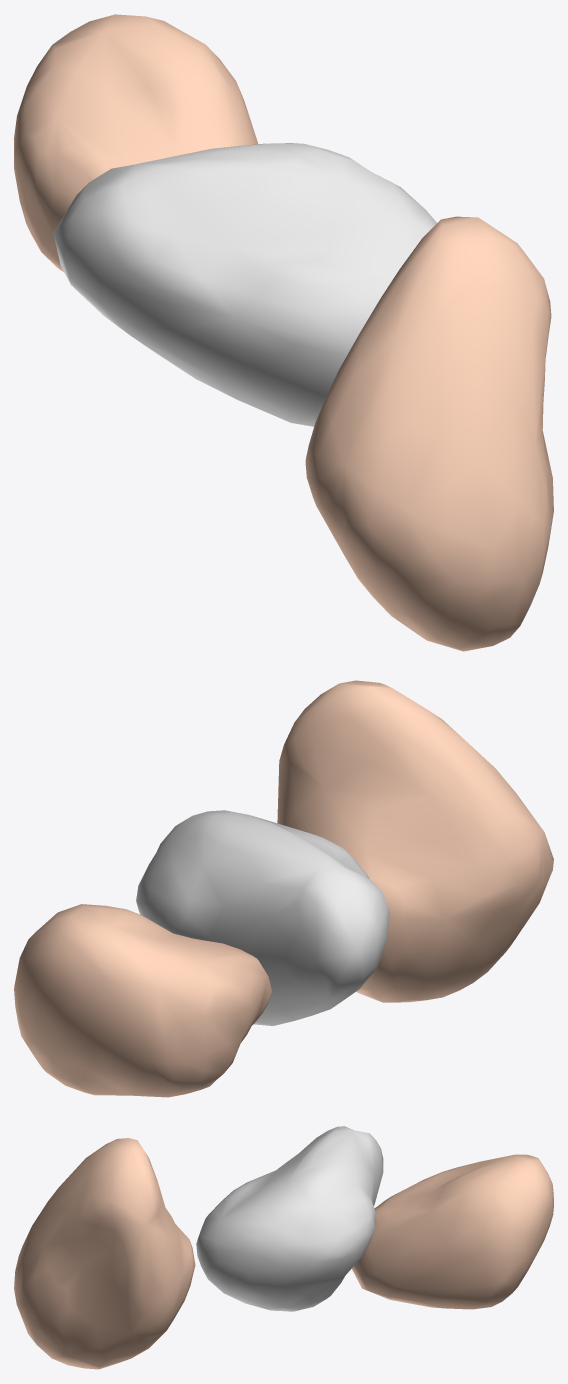
File: moreRockos.fbx
The picture shows the model from 3 angles, top to bottom: view 1: azimuth 30°, elevation 25°; view 2: azimuth 150°, elevation 25°; view 3: azimuth 270°, elevation 25°; orthographic projection. The views are drawn at different scales.
Parts seen in each view (by area): view 1: rock3, rock2, rock1; view 2: rock3, rock1, rock2; view 3: rock3, rock2, rock1.
Boxes of the visible parts, <box> form: rock3: <box>305,216,553,651</box>; rock2: <box>53,143,436,426</box>; rock1: <box>14,14,258,271</box>; rock3: <box>277,680,553,1002</box>; rock1: <box>14,904,271,1097</box>; rock2: <box>136,810,389,1025</box>; rock3: <box>14,1138,195,1369</box>; rock2: <box>196,1126,383,1311</box>; rock1: <box>351,1154,553,1309</box>.
Bounding box in the file's own units: 515 × 600 × 1287.
